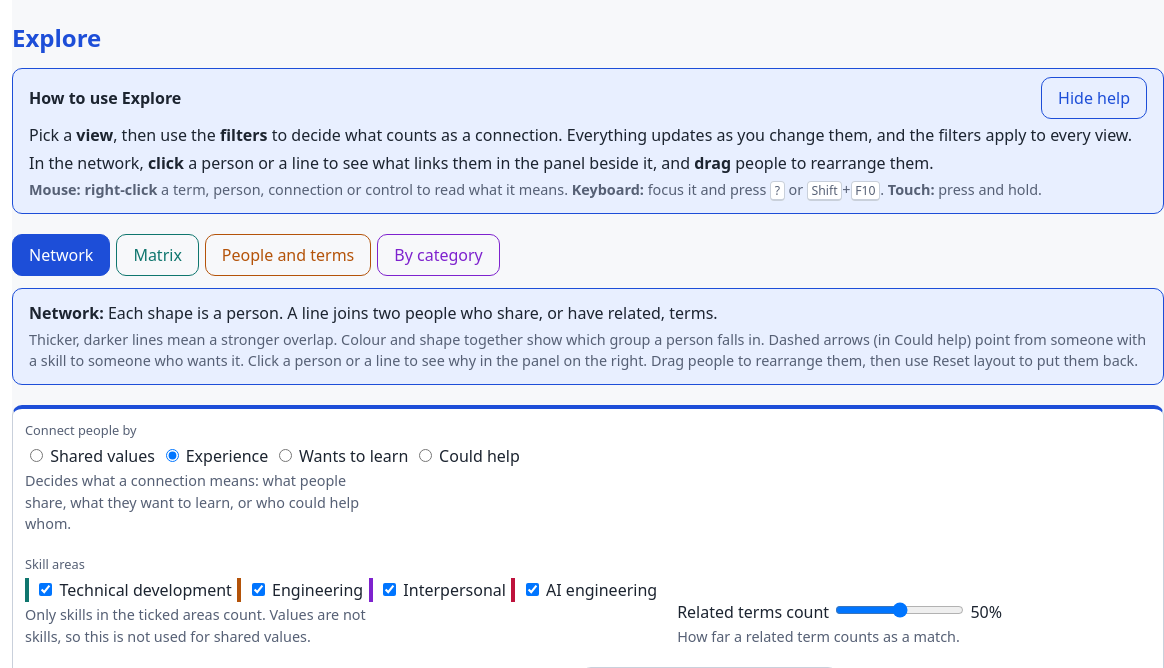
Scenario: Explore network › applies the skill-area filter to skills but disables it for values
Click the checkbox labelled "Technical development" at (46, 590), box [39,583,52,596]
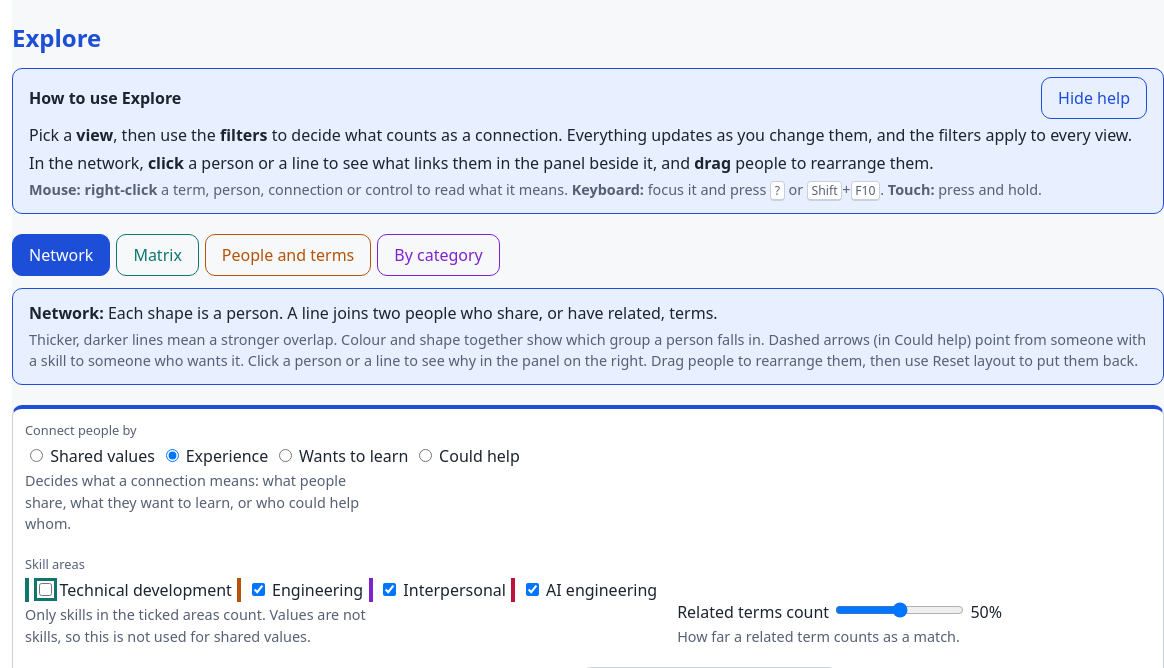
Click the radio button labelled "Shared values" at (36, 456), box [30,449,43,462]
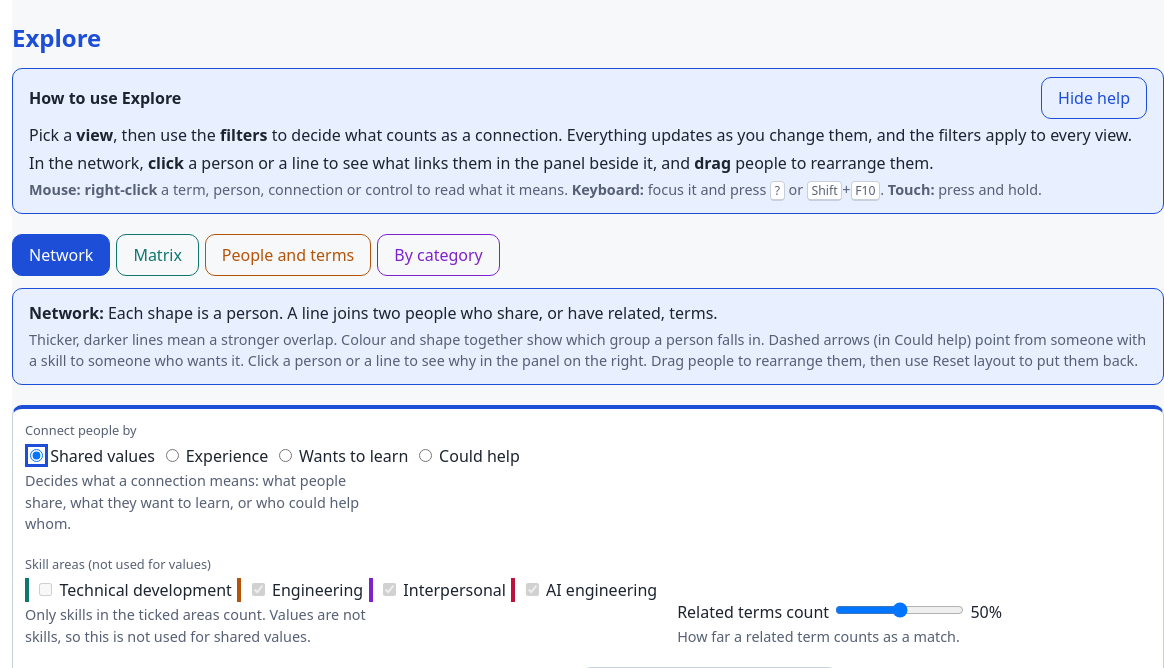
Expected: the element "Skill areas" is disabled, [25,555,657,655]
